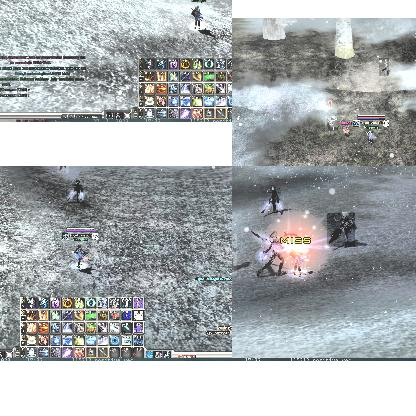caliana: (250, 229, 284, 277), (327, 213, 355, 247), (261, 187, 281, 215), (66, 181, 84, 203), (325, 116, 337, 134), (379, 58, 389, 76), (57, 166, 68, 173)
